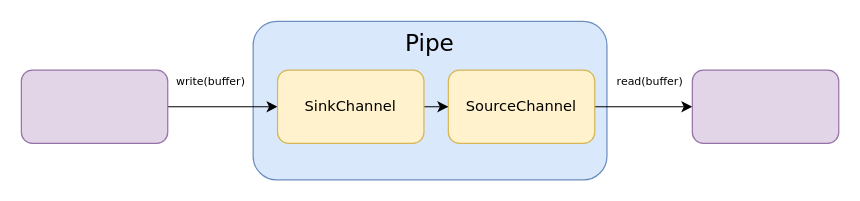
This 860x201 diagram has some shape labels left out. Each missing label, with the box of its shape:
ReceiverThread: (691, 69, 839, 143)
SenderThread: (20, 69, 168, 143)
